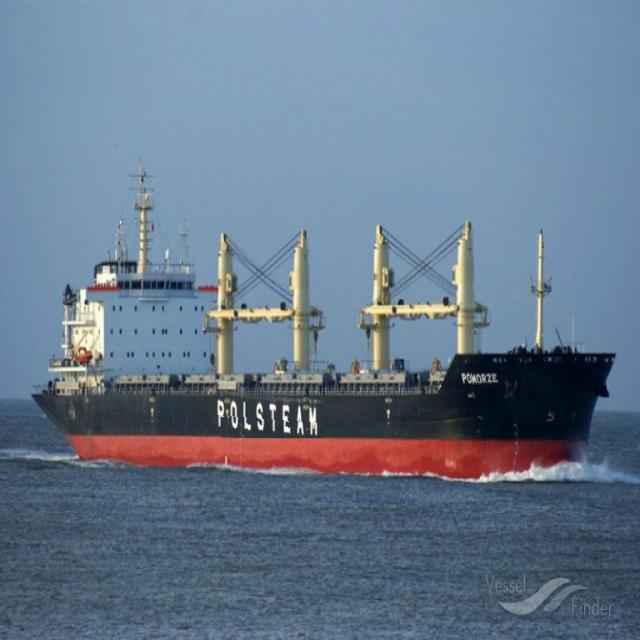OCR: (213, 392, 323, 438), (458, 364, 499, 388)
